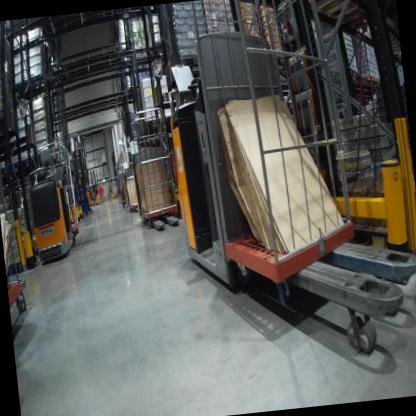forklift: (66, 143, 96, 220), (84, 156, 103, 207)
pallet: (295, 0, 380, 23), (174, 45, 221, 74), (12, 73, 38, 108), (27, 68, 50, 98), (130, 46, 151, 75), (0, 104, 17, 137), (7, 157, 34, 177), (268, 49, 293, 70), (7, 259, 29, 281), (151, 39, 168, 58), (358, 71, 376, 85), (346, 67, 362, 80), (374, 73, 388, 84), (0, 166, 9, 180)
pallet_truck: (160, 39, 416, 375), (24, 152, 78, 266), (125, 137, 187, 235), (120, 159, 142, 218)
